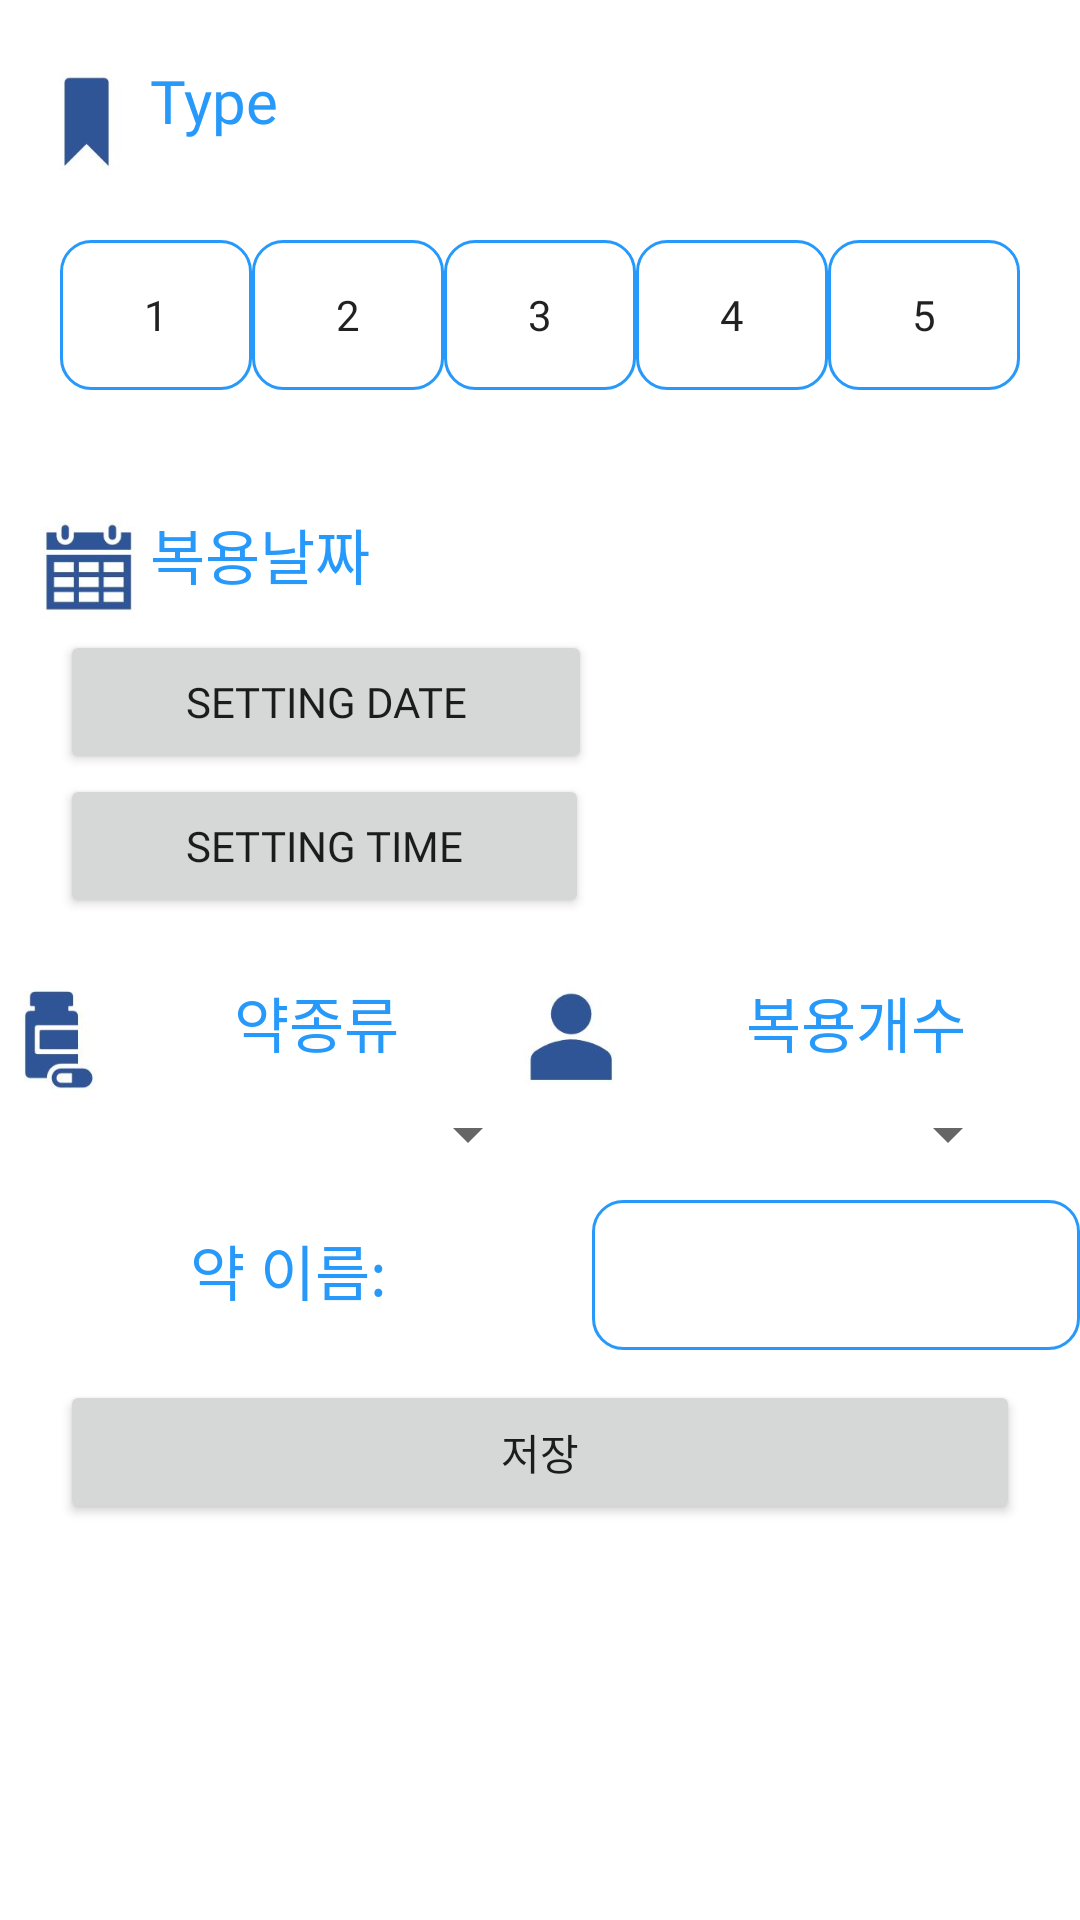

Named icons in this screenshot (1080 × 1920) and their bounding boxes, box=[x1, y1, x2, y2]:
cal: box=[46, 524, 132, 610]
person: box=[530, 993, 612, 1080]
pill: box=[25, 991, 93, 1088]
